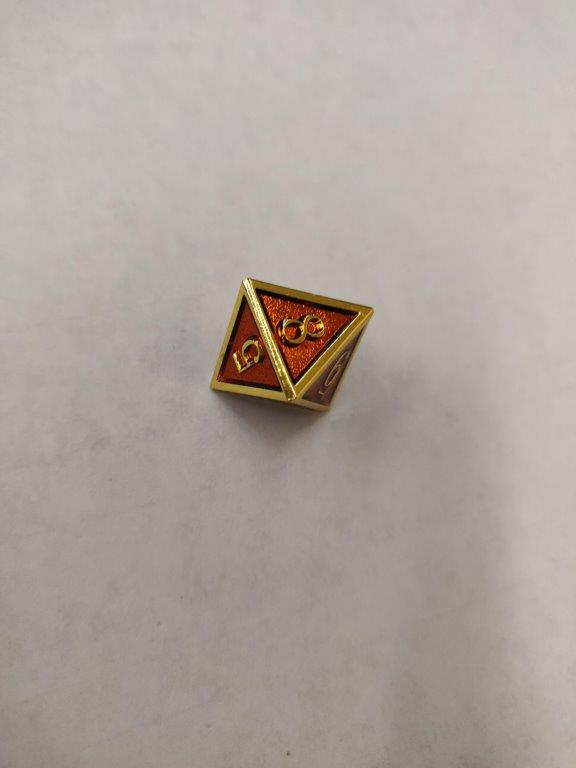d8-8: (206, 271, 375, 419)
